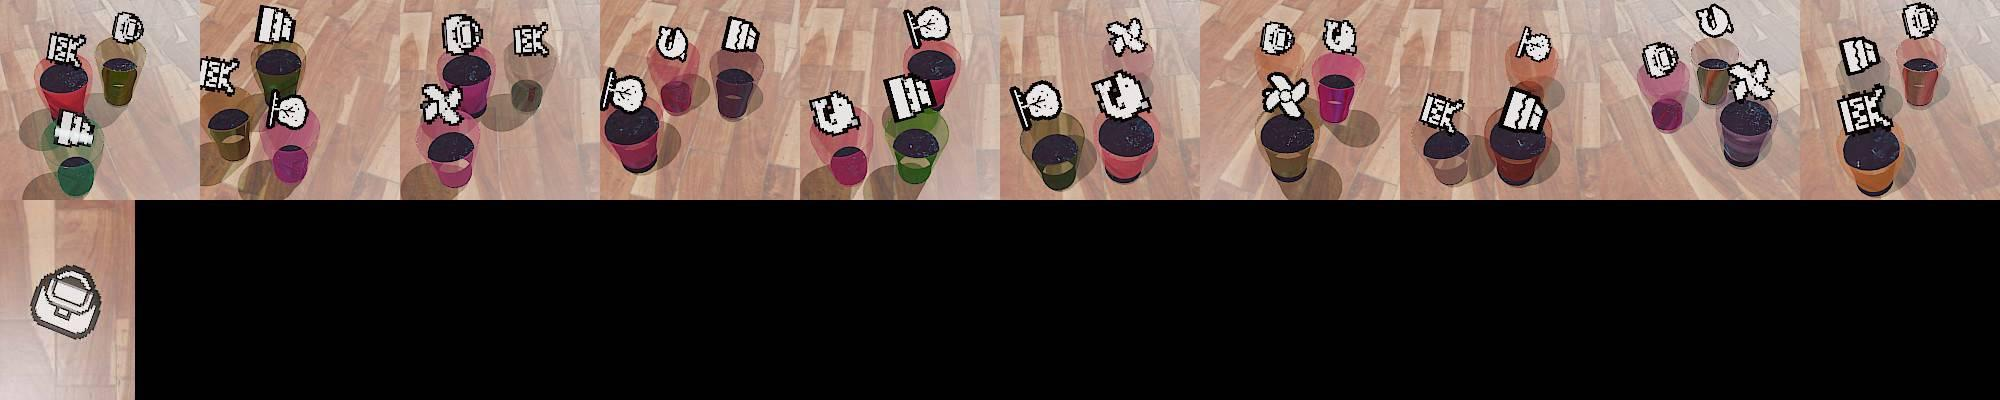icon: (29, 264, 103, 340), (1092, 69, 1151, 120), (881, 71, 937, 122), (1835, 85, 1890, 136), (1010, 79, 1064, 130), (1496, 85, 1548, 135), (809, 89, 860, 136), (1263, 70, 1311, 118), (1727, 59, 1773, 103), (420, 82, 466, 125), (904, 5, 952, 47), (1418, 92, 1466, 132), (441, 13, 483, 57), (50, 108, 97, 148), (255, 4, 297, 47), (1106, 15, 1149, 56), (267, 92, 311, 130), (606, 73, 647, 113), (200, 55, 240, 96), (1839, 37, 1880, 75), (721, 15, 760, 54), (1640, 42, 1680, 80), (1514, 25, 1554, 64), (46, 31, 88, 66), (1321, 18, 1358, 56), (511, 22, 550, 59), (1902, 3, 1939, 41), (1694, 4, 1733, 38), (654, 24, 689, 61), (1260, 20, 1295, 56), (111, 10, 145, 45)
